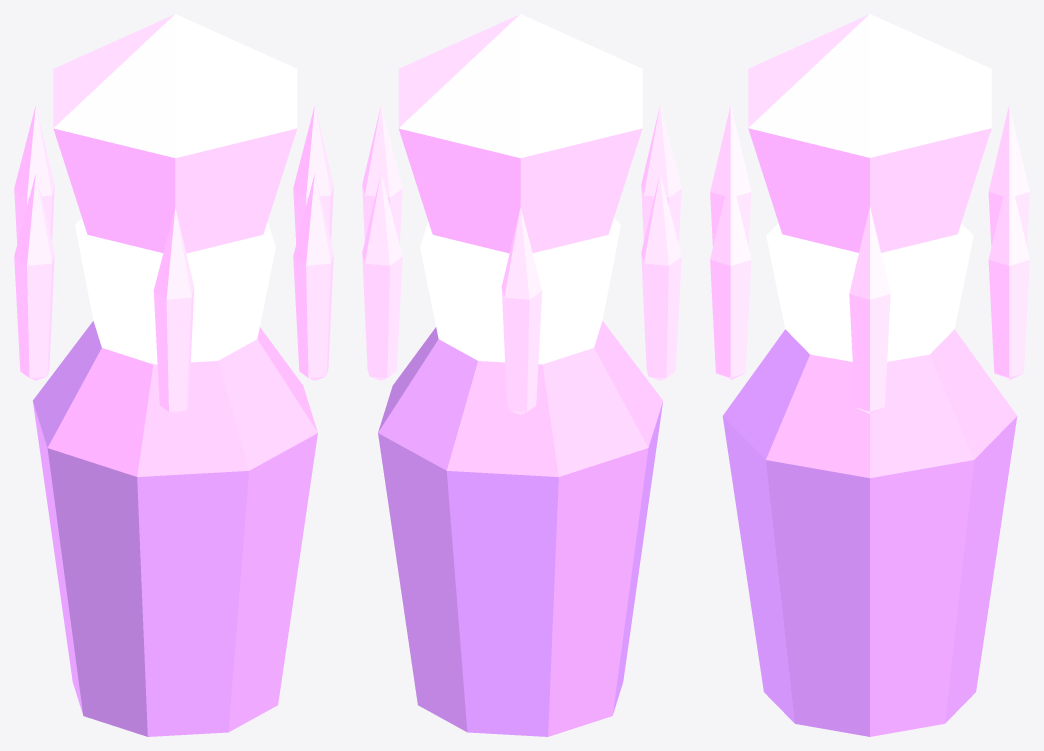
File: deep-fracture-creature-FacetSentry-seidr.glb
The picture shows the model from 3 angles, left to right: view 1: azimuth 30°, elevation 25°; view 2: azimuth 150°, elevation 25°; view 3: azimuth 270°, elevation 25°; orthographic projection.
Visible parts, largest first — view 1: pedestal, sensor, control-core, prong1, prong3, prong2, prong0, prong4; view 2: pedestal, sensor, control-core, prong5, prong3, prong4, prong0, prong2; view 3: pedestal, sensor, control-core, prong0, prong1, prong5, prong2, prong4.
Boxes of the visible parts, box(x1,y1,x2,y2) form: pedestal: box(33, 321, 317, 736); sensor: box(53, 14, 297, 253); control-core: box(75, 218, 275, 364); prong1: box(293, 173, 333, 380); prong3: box(14, 173, 54, 380); prong2: box(153, 207, 194, 414); prong0: box(293, 105, 333, 243); prong4: box(14, 105, 54, 243); pedestal: box(378, 321, 662, 736); sensor: box(398, 14, 642, 253); control-core: box(420, 218, 620, 364); prong5: box(362, 173, 402, 380); prong3: box(641, 173, 681, 380); prong4: box(501, 207, 542, 414); prong0: box(362, 105, 402, 243); prong2: box(641, 105, 681, 243); pedestal: box(722, 329, 1017, 736); sensor: box(748, 14, 991, 252); control-core: box(766, 223, 973, 361); prong0: box(849, 207, 890, 413); prong1: box(710, 173, 751, 379); prong5: box(988, 173, 1029, 379); prong2: box(710, 105, 751, 246); prong4: box(988, 105, 1029, 246).
Bounding box in the file's own units: 1.08 × 2.3 × 0.955.
